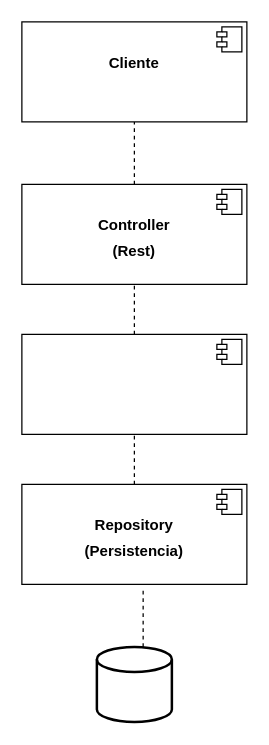
The diagram is 269 pixels wide and 745 high, and some of its shapes have lost their labels. The box of each missing label's shape, as (x1, y1, x2, y2) in pixels:
DB H2: (95, 645, 172, 722)
Service (Lógica de negocio): (21, 333, 247, 434)
